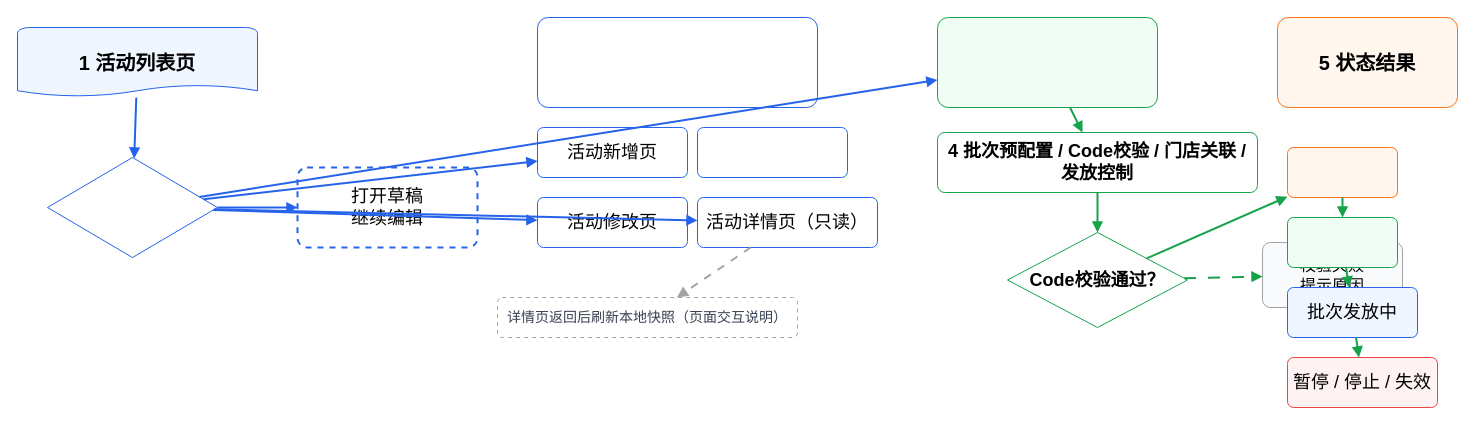
Image size: 1475x425. Some labels were removed from this diagram. Each missing label, with the centre of its shape:
"2 活动新增 / 编辑 / 修改 / 详情" belongs at (677,62).
"3 批次管理页" belongs at (1047,62).
"审核中" belongs at (1342,172).
"是否已有草稿？" belongs at (132,207).
"活动编辑页" belongs at (772,152).
"生效中" belongs at (1342,242).
